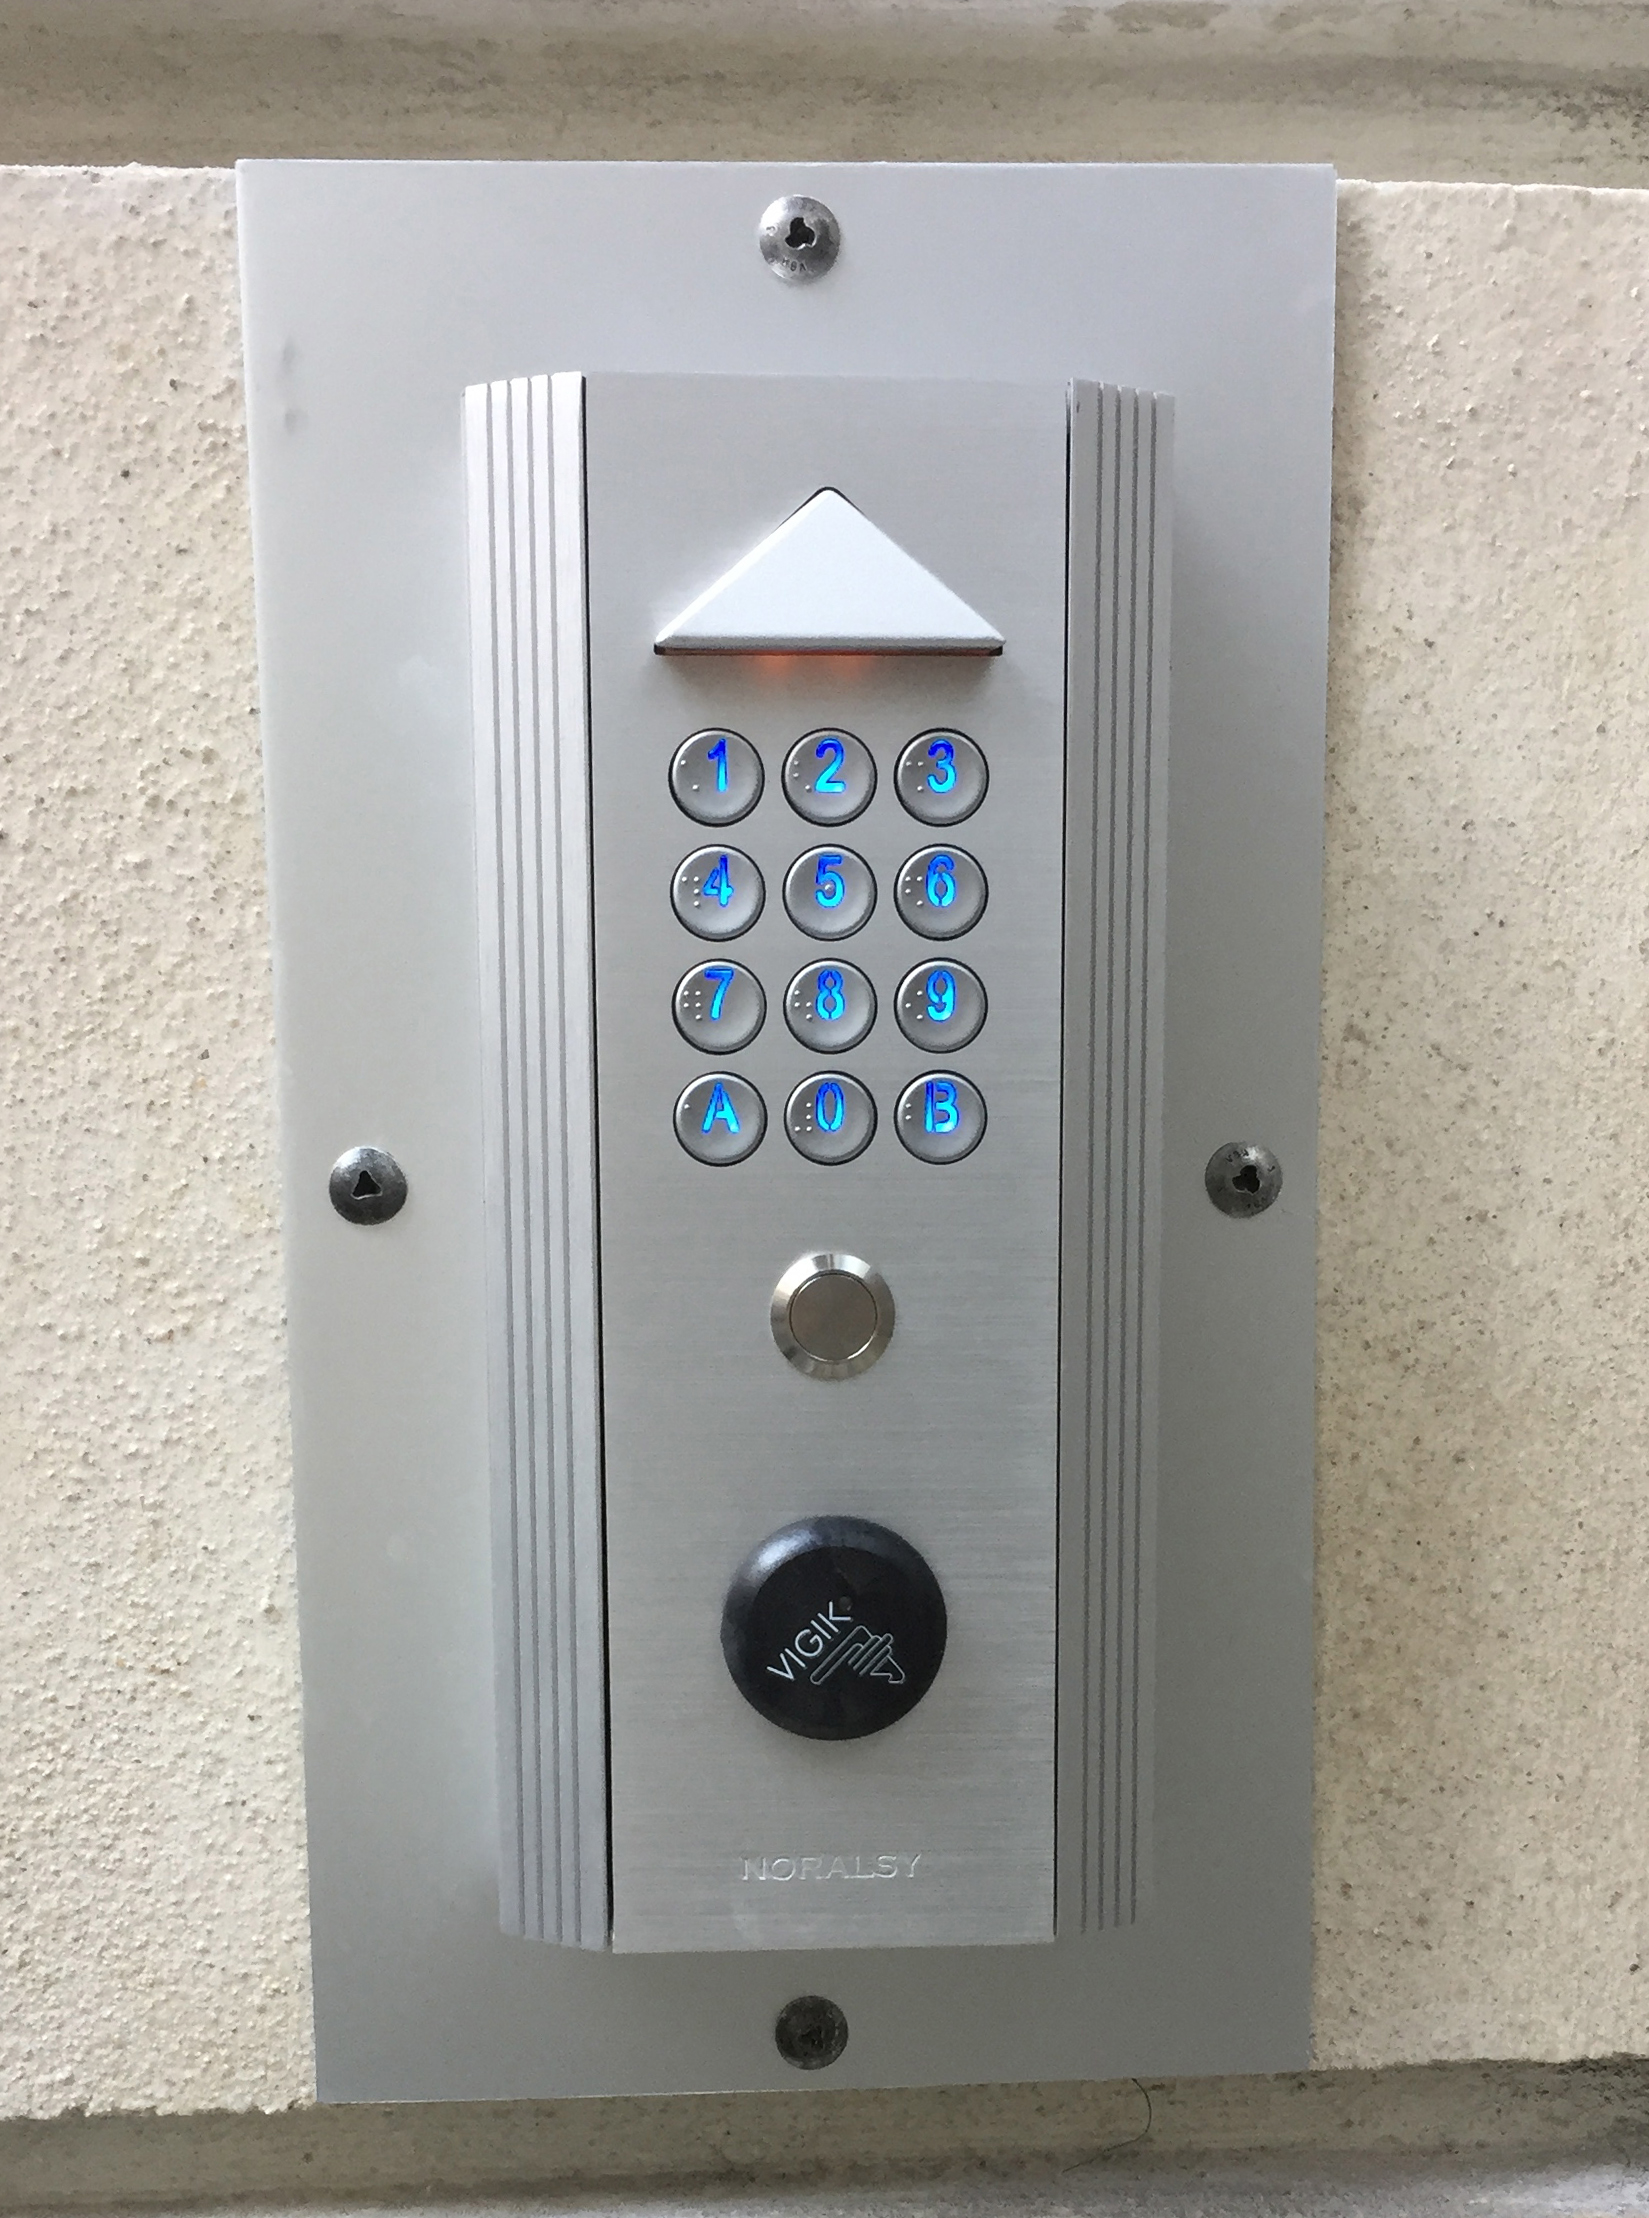digicode: (658, 715, 1001, 1183)
